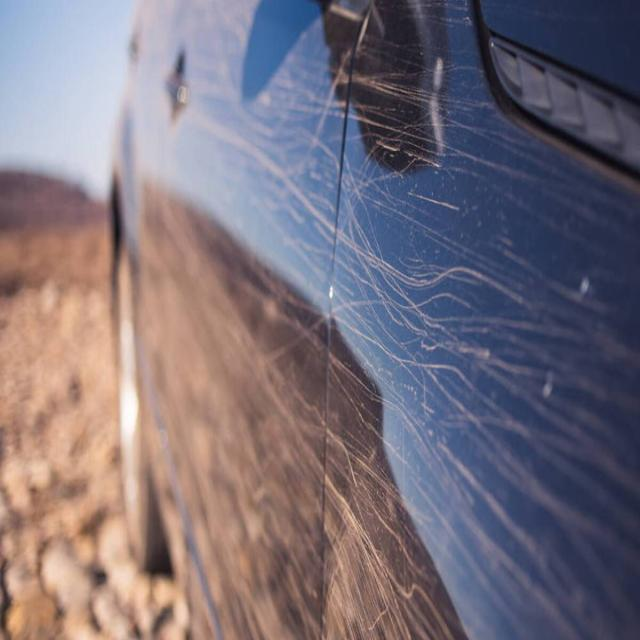scratch: (164, 0, 640, 640)
